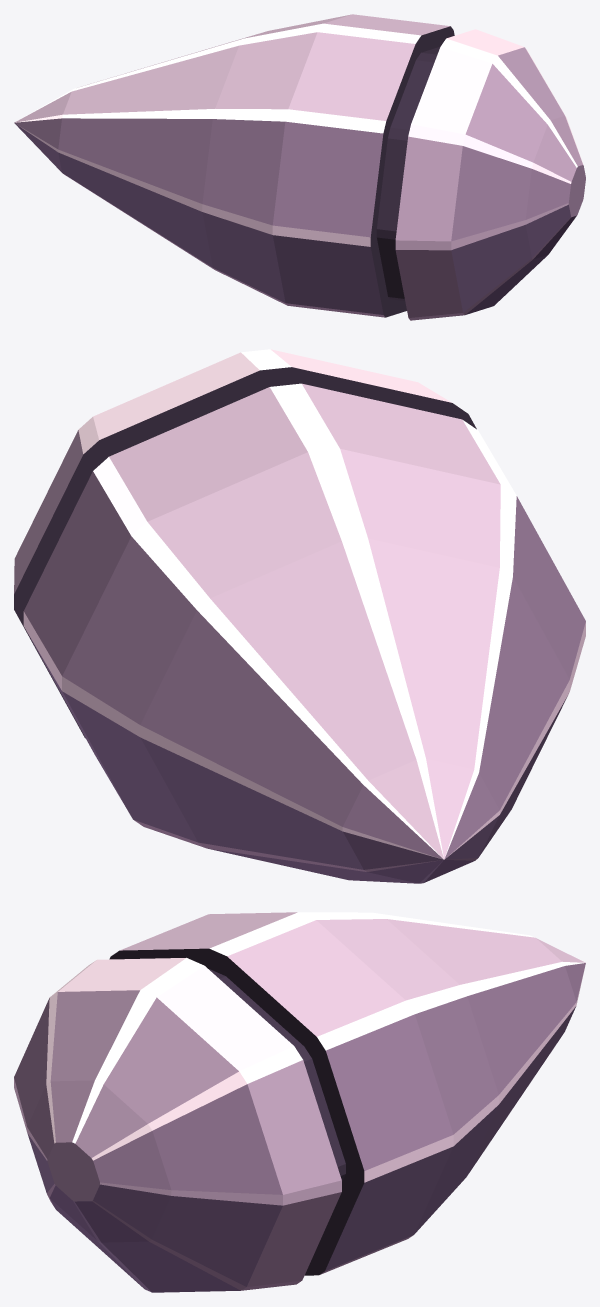
File: shard_50.glb
The picture shows the model from 3 angles, top to bottom: view 1: azimuth 30°, elevation 25°; view 2: azimuth 150°, elevation 25°; view 3: azimuth 270°, elevation 25°; orthographic projection. The views are drawn at different scales.
Parts seen in each view (by area): view 1: shard; view 2: shard; view 3: shard.
Boxes of the visible parts, box(x1,y1,x2,y2) form: shard: box(14, 14, 585, 320); shard: box(14, 349, 585, 883); shard: box(14, 912, 585, 1292).
Bounding box in the file's own units: 19.72 × 12.52 × 20.08.
